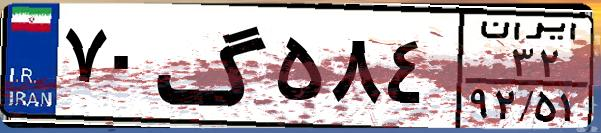0: (110, 28, 156, 98)
1: (560, 70, 590, 125)
2: (537, 27, 568, 80), (495, 70, 520, 125)
3: (508, 27, 537, 80)
4: (385, 28, 445, 110)
5: (270, 28, 330, 110), (535, 70, 560, 125)
7: (57, 26, 110, 100)
8: (330, 28, 385, 110)
9: (470, 70, 495, 125)
گ: (156, 12, 270, 120)
